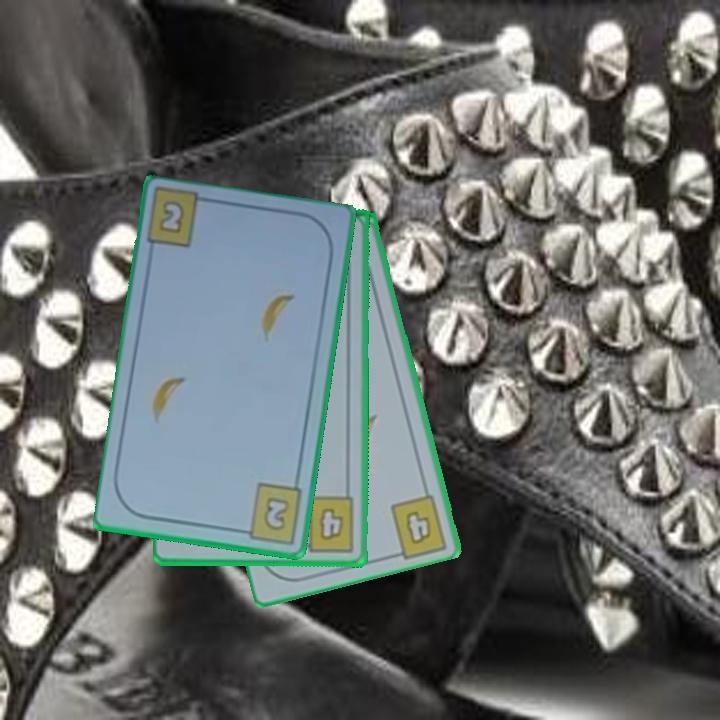2b: (234, 479, 306, 546), (155, 196, 188, 238)
4b: (294, 493, 358, 554), (402, 507, 435, 548)
